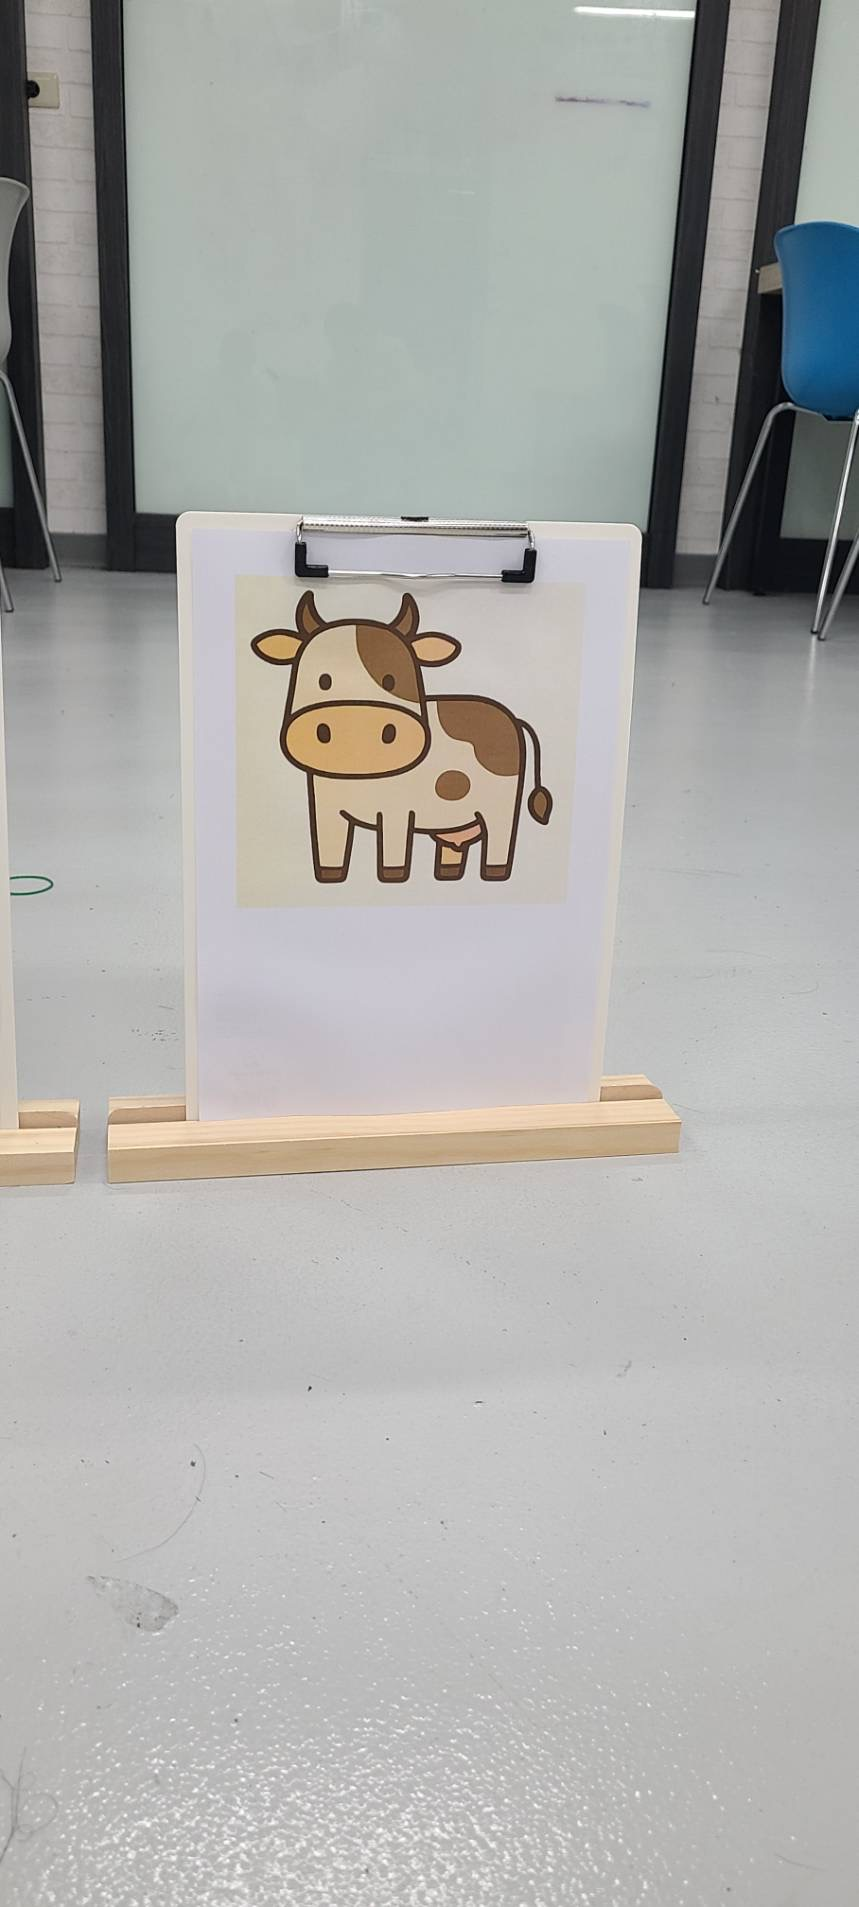cow: (241, 587, 558, 890)
